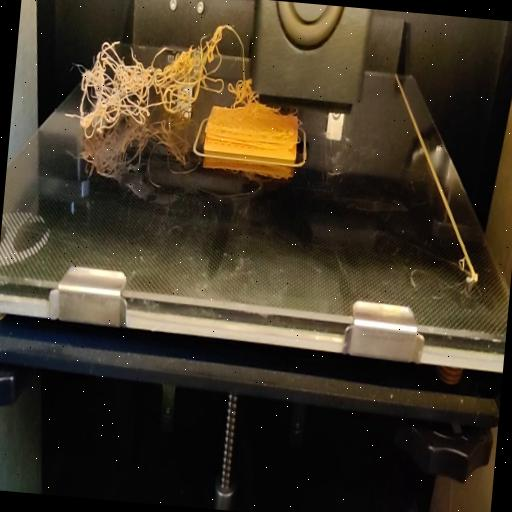spaghetti: (56, 10, 252, 152)
